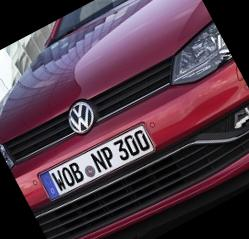plate: (24, 106, 175, 230)
